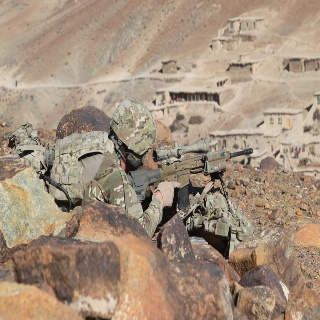rifle: (126, 137, 253, 213)
